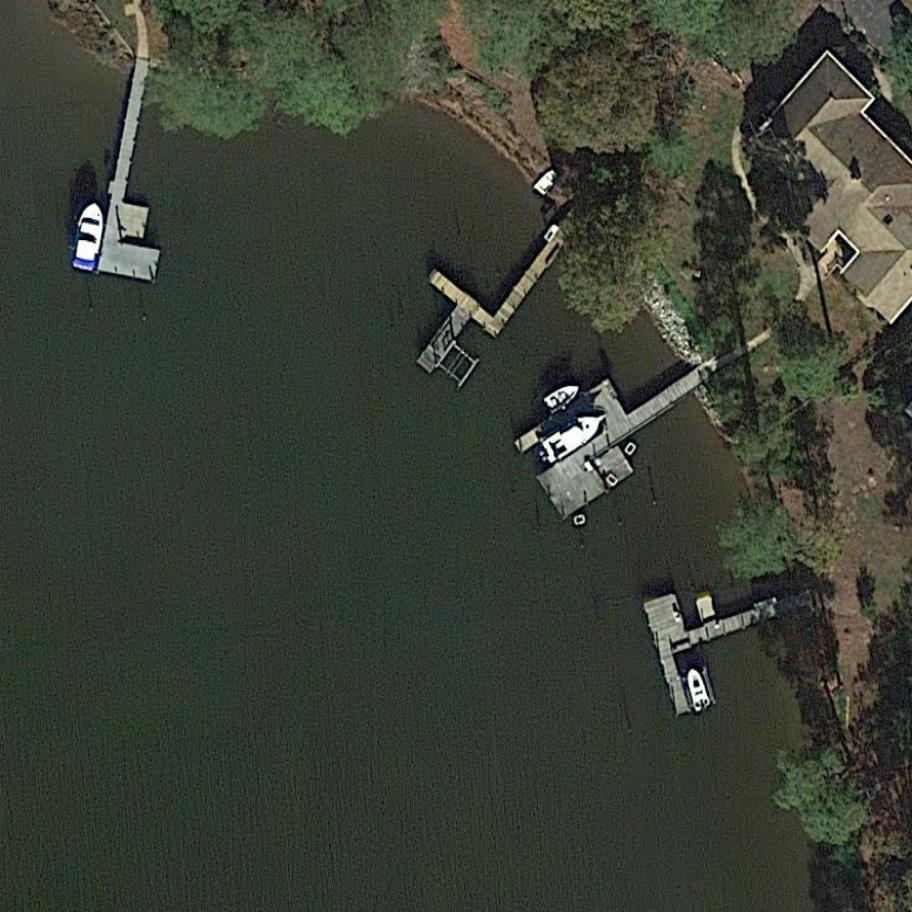ship: (536, 406, 611, 467), (70, 199, 109, 273), (540, 377, 586, 418), (683, 664, 712, 712), (532, 166, 565, 200)
